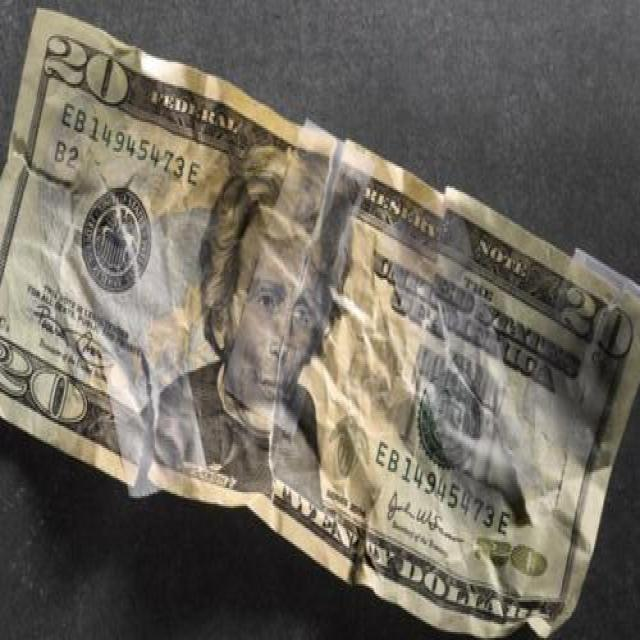20-Front: (3, 10, 636, 628)
